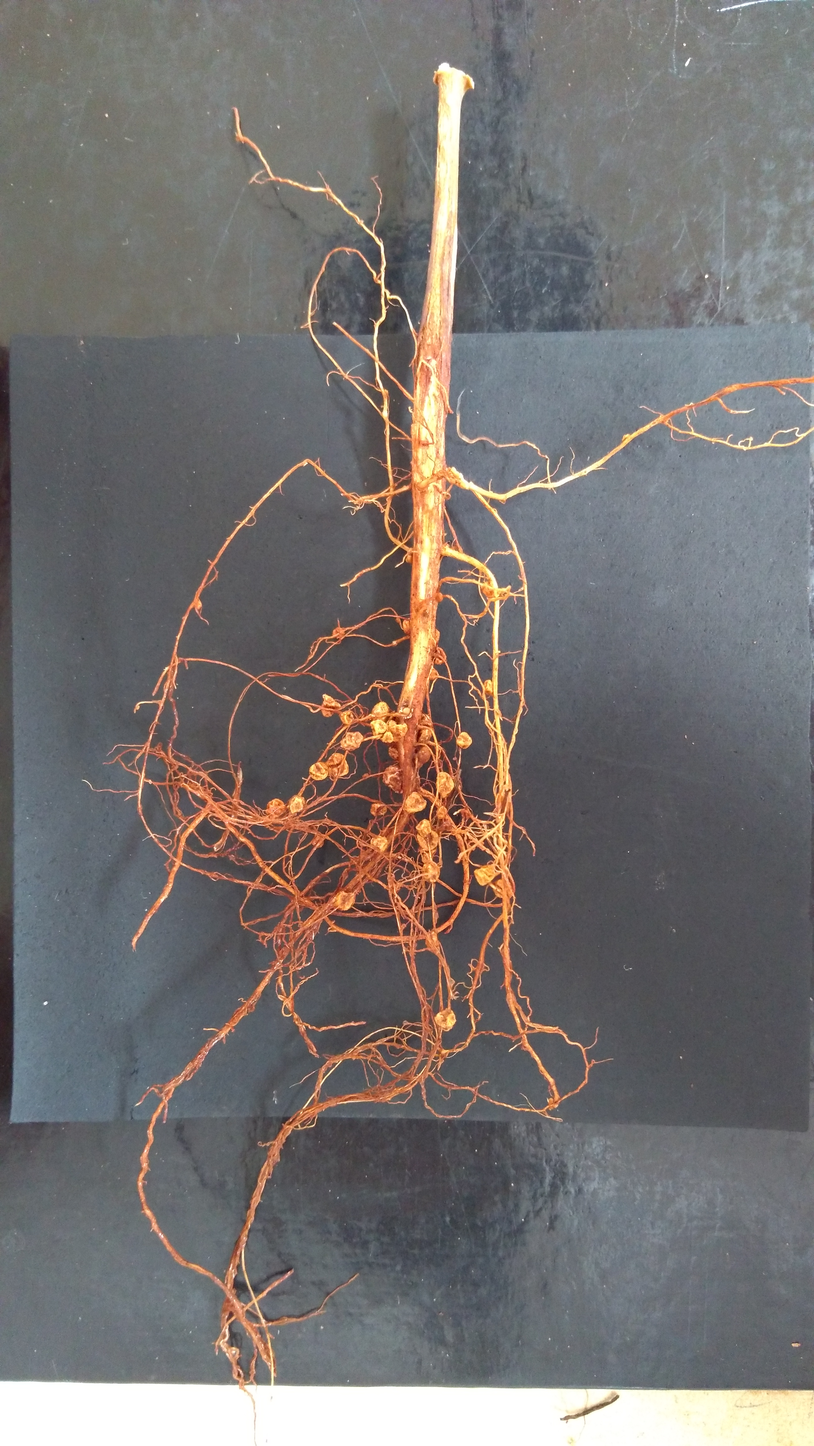nodule: (381, 765, 404, 794), (384, 719, 409, 744), (326, 752, 350, 778), (433, 1007, 457, 1032), (418, 712, 434, 747), (436, 770, 455, 798), (474, 863, 497, 886), (333, 889, 357, 911), (416, 829, 439, 850), (321, 693, 341, 717), (340, 731, 364, 751), (421, 859, 441, 883), (370, 701, 390, 724), (404, 793, 427, 813), (414, 745, 432, 770), (493, 878, 514, 899), (369, 719, 389, 740), (265, 798, 287, 817), (308, 761, 329, 780), (418, 844, 439, 863), (288, 794, 307, 814), (424, 930, 440, 953), (370, 834, 389, 853), (480, 580, 499, 598), (455, 731, 473, 749), (414, 819, 432, 837), (369, 801, 388, 816), (386, 873, 400, 893), (434, 646, 447, 666), (338, 709, 354, 725), (483, 679, 495, 697), (331, 626, 346, 639), (388, 744, 401, 759), (380, 731, 394, 744), (311, 834, 324, 848), (402, 617, 412, 635), (436, 805, 448, 820), (547, 1096, 559, 1111), (433, 628, 440, 649), (405, 547, 414, 563), (429, 667, 439, 681), (460, 808, 472, 819), (401, 706, 411, 716), (442, 490, 451, 500), (435, 591, 443, 602), (196, 598, 202, 610), (362, 773, 370, 778), (452, 756, 458, 761)
